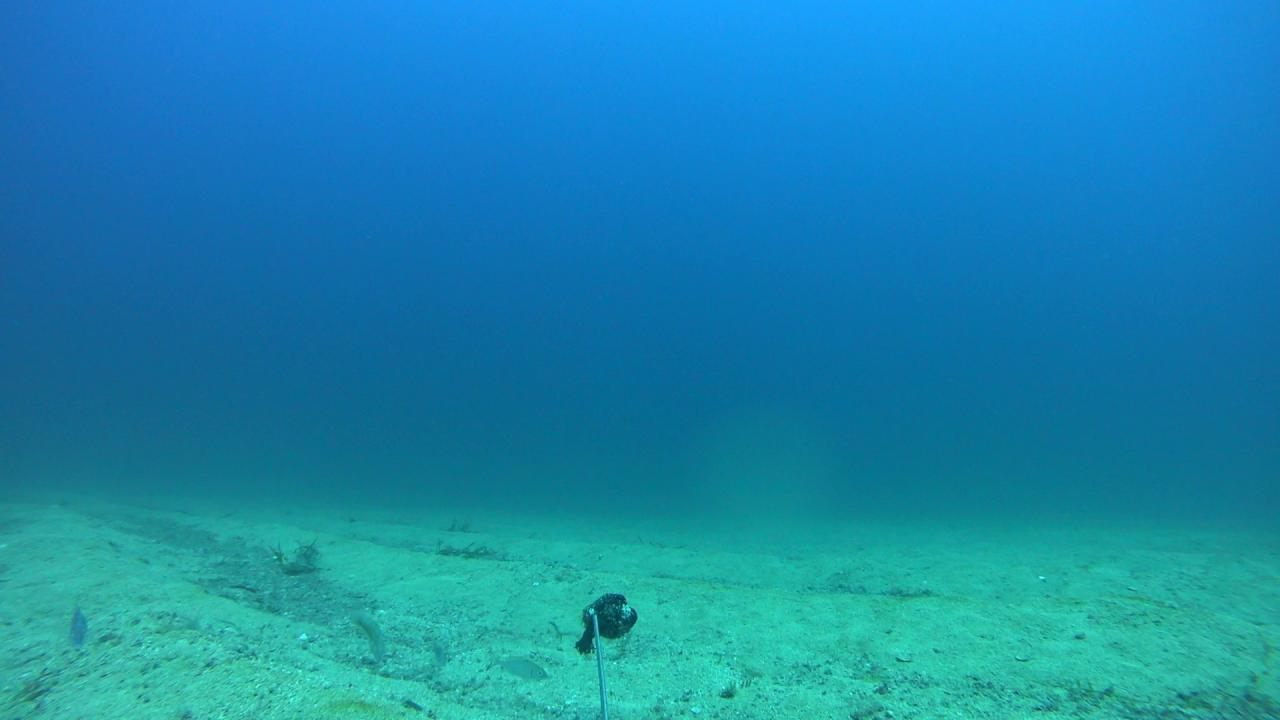pagellus: (486, 653, 548, 681)
